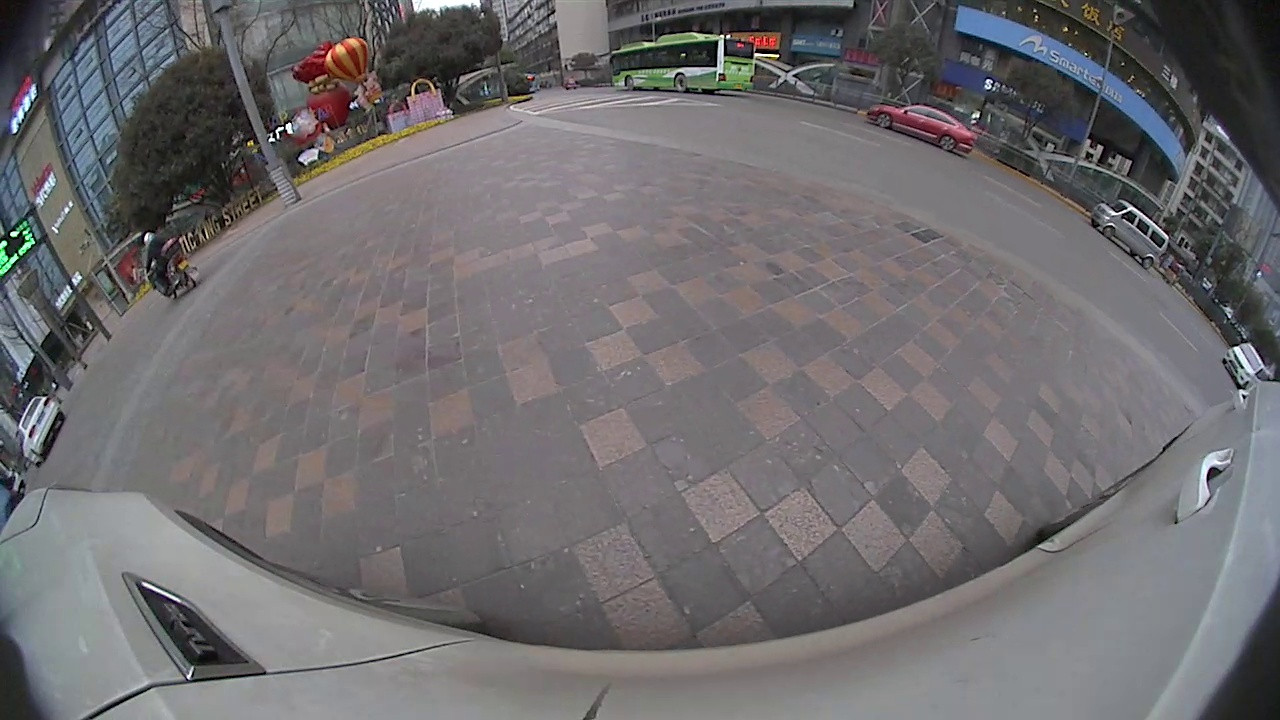bus: (608, 34, 759, 96)
car: (1092, 199, 1168, 272), (865, 102, 974, 150), (18, 395, 67, 466), (1222, 342, 1267, 386)
front: (1101, 223, 1115, 243), (622, 74, 637, 91)
rear: (935, 132, 959, 153), (673, 74, 689, 94), (875, 111, 892, 129), (1140, 256, 1156, 274)
rider: (143, 230, 197, 296)
